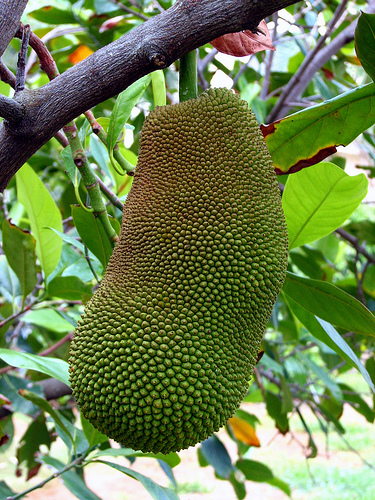jackfruit: (67, 87, 280, 451)
